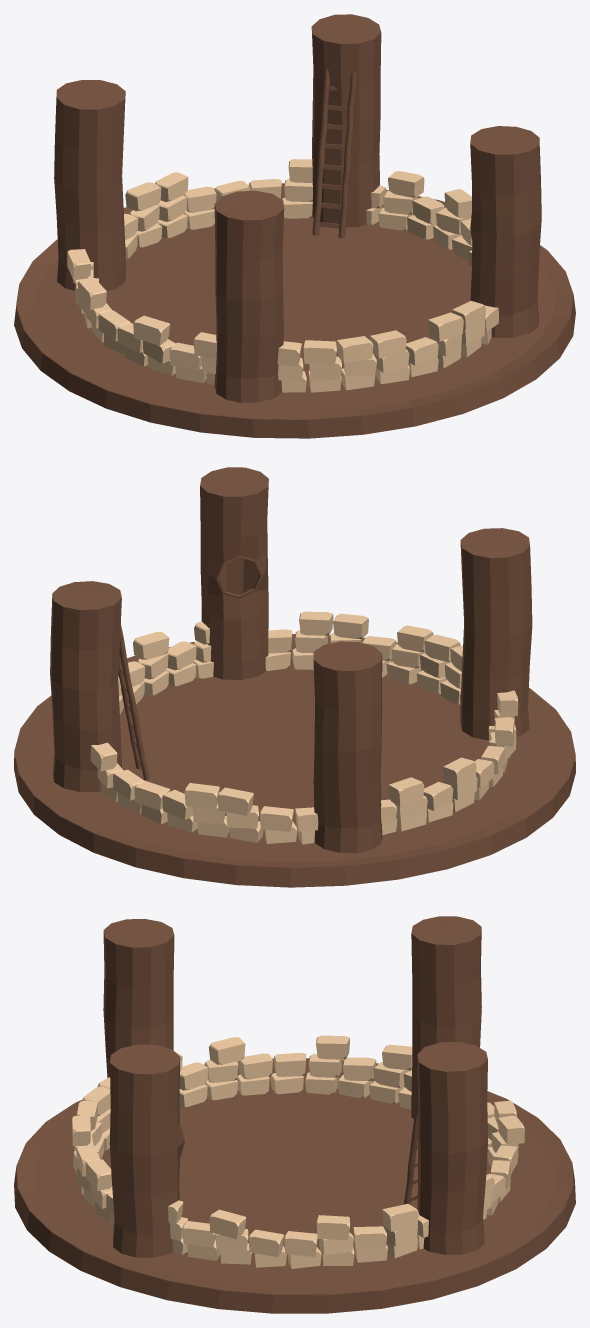
The model's file is fasePredio.fbx.
3 renders of one model, top to bottom at view 1: azimuth 30°, elevation 25°; view 2: azimuth 150°, elevation 25°; view 3: azimuth 270°, elevation 25°, orthographic.
Parts seen in each view (by area): view 1: Circle.001, Circle.002, Circle.005, Circle.003; view 2: Circle.001, Circle.002, Circle.005, Circle.003; view 3: Circle.001, Circle.002, Circle.005, Circle.003.
Part boxes in pixels (bbox=[...]): Circle.001: bbox=[14, 183, 575, 438]; Circle.002: bbox=[54, 14, 541, 402]; Circle.005: bbox=[67, 159, 498, 392]; Circle.003: bbox=[312, 68, 356, 238]; Circle.001: bbox=[14, 634, 575, 887]; Circle.002: bbox=[50, 467, 532, 853]; Circle.005: bbox=[90, 611, 518, 844]; Circle.003: bbox=[118, 624, 149, 779]; Circle.001: bbox=[14, 1058, 575, 1313]; Circle.002: bbox=[103, 916, 488, 1257]; Circle.005: bbox=[72, 1035, 524, 1268]; Circle.003: bbox=[404, 1087, 417, 1204].
Size of the model in its own units: 7963 by 3221 by 7957.
